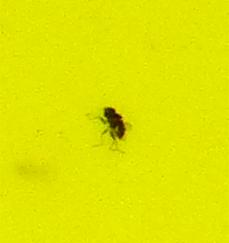Brachycera: (100, 100, 129, 143)
